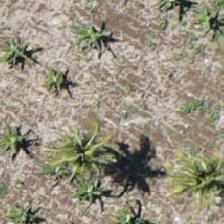coconut_tree: (42, 107, 132, 197), (160, 130, 223, 220)
